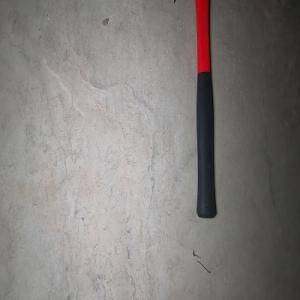Hammer: (173, 0, 231, 219)
